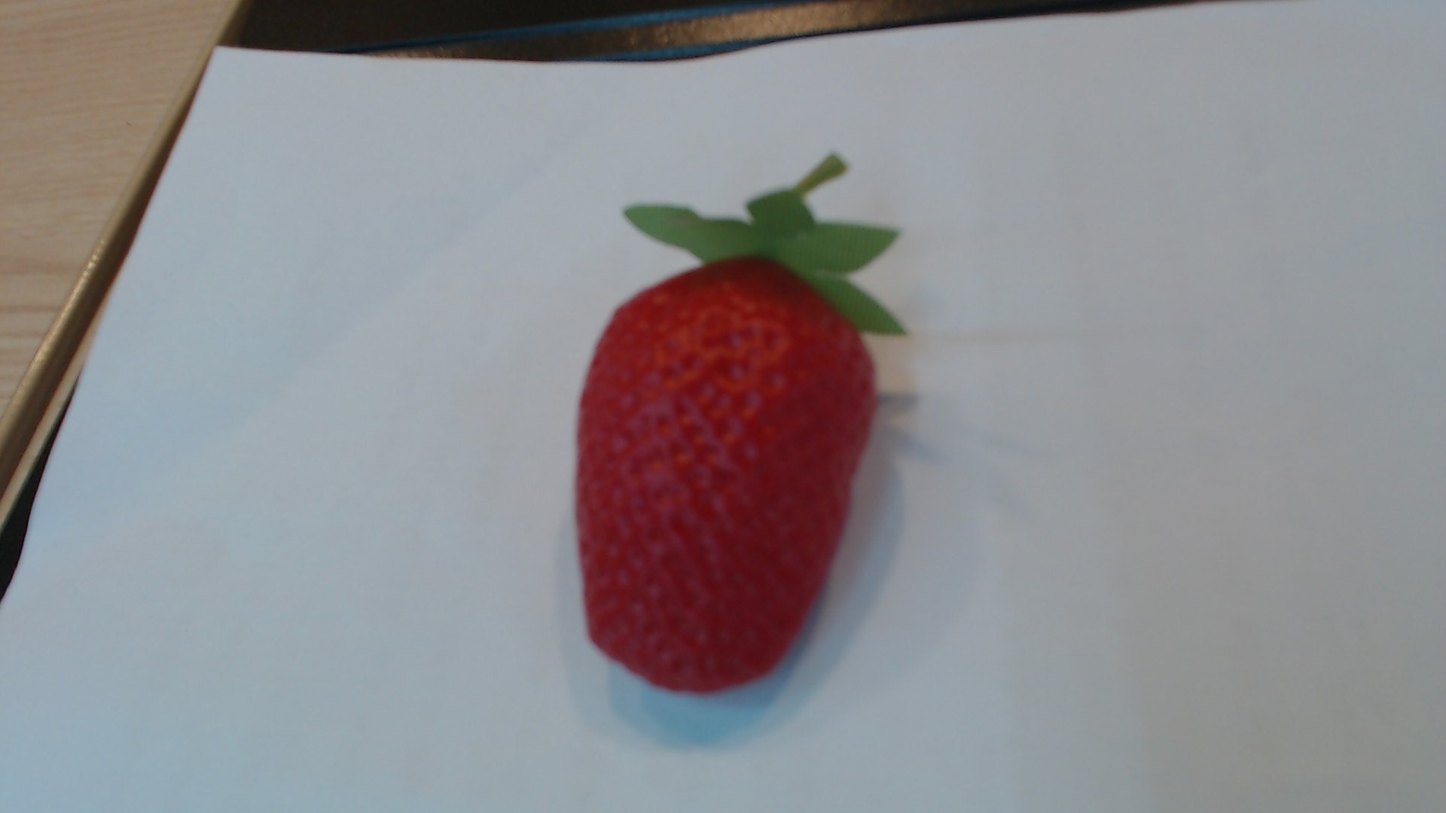strawberry: (574, 220, 885, 703)
